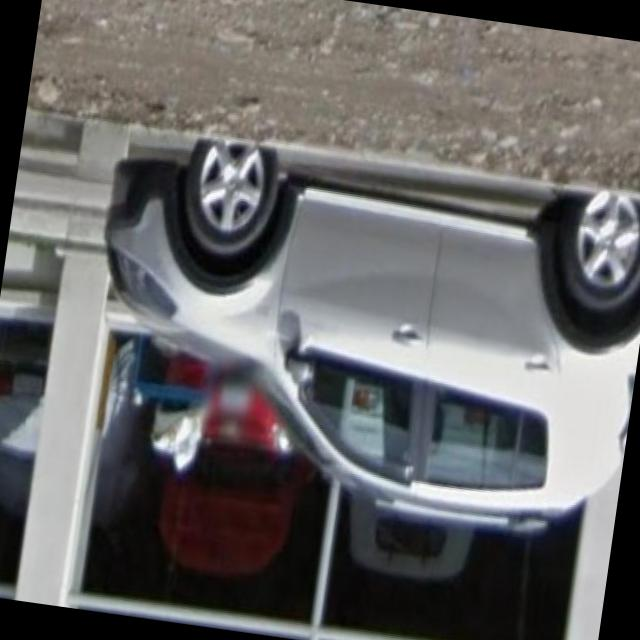car: (64, 120, 640, 548)
